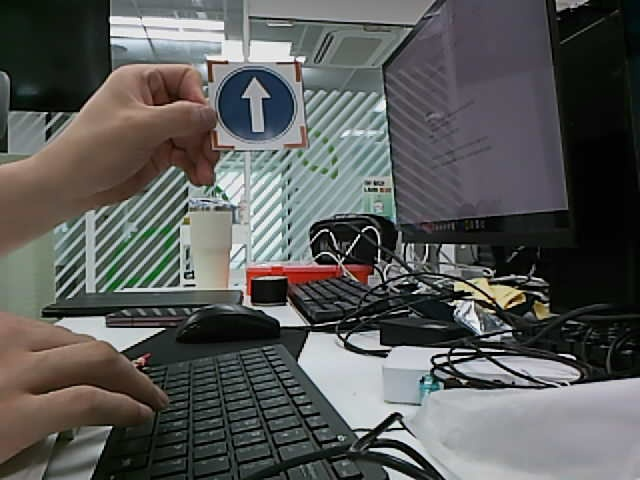go: (215, 66, 297, 143)
